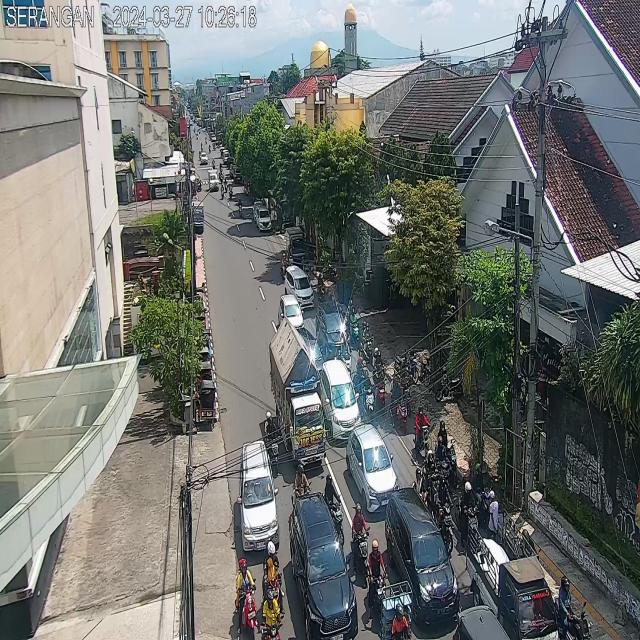car: (289, 493, 358, 640), (386, 488, 460, 618), (344, 423, 400, 510), (240, 441, 279, 552), (321, 360, 362, 442), (453, 606, 509, 640), (316, 301, 346, 359), (284, 265, 314, 309), (278, 294, 305, 334), (257, 206, 272, 232), (253, 202, 264, 223), (202, 151, 208, 165)
motorcycle: (554, 573, 590, 640), (234, 557, 258, 640), (382, 587, 415, 640), (322, 475, 347, 544), (366, 539, 388, 616), (434, 478, 456, 554), (263, 540, 284, 613), (457, 484, 479, 551), (437, 420, 459, 487), (470, 463, 493, 526), (353, 503, 369, 580), (291, 466, 314, 511), (264, 411, 279, 477), (413, 405, 430, 462), (262, 591, 281, 640), (390, 376, 407, 429), (434, 436, 450, 490), (521, 530, 541, 572), (422, 449, 438, 501), (411, 465, 427, 515), (359, 368, 375, 416), (399, 366, 412, 418), (344, 300, 360, 342), (370, 378, 386, 415), (338, 336, 352, 377), (361, 320, 373, 365), (372, 348, 386, 386), (353, 360, 368, 391), (355, 342, 366, 376), (280, 253, 290, 282), (302, 260, 311, 286), (317, 275, 325, 303), (285, 244, 294, 268), (238, 198, 243, 218), (218, 169, 224, 184), (229, 183, 233, 199), (224, 178, 228, 193), (221, 183, 224, 200), (219, 162, 223, 173), (198, 150, 202, 160), (212, 158, 215, 170), (208, 144, 211, 153), (201, 142, 203, 151), (205, 136, 207, 145)
truck: (465, 519, 558, 640), (270, 318, 326, 464), (286, 227, 304, 262), (208, 170, 219, 192)
